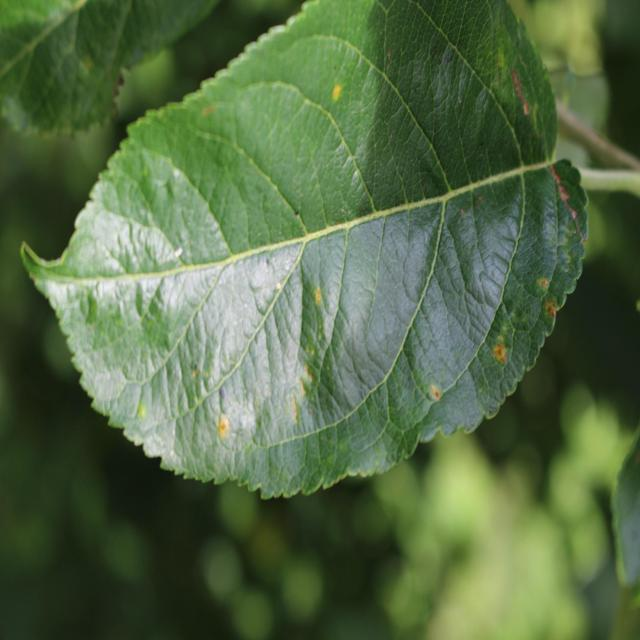Rust: (539, 264, 561, 338), (422, 369, 450, 418), (215, 404, 238, 456), (319, 78, 351, 104), (307, 274, 327, 314), (489, 338, 512, 370)
